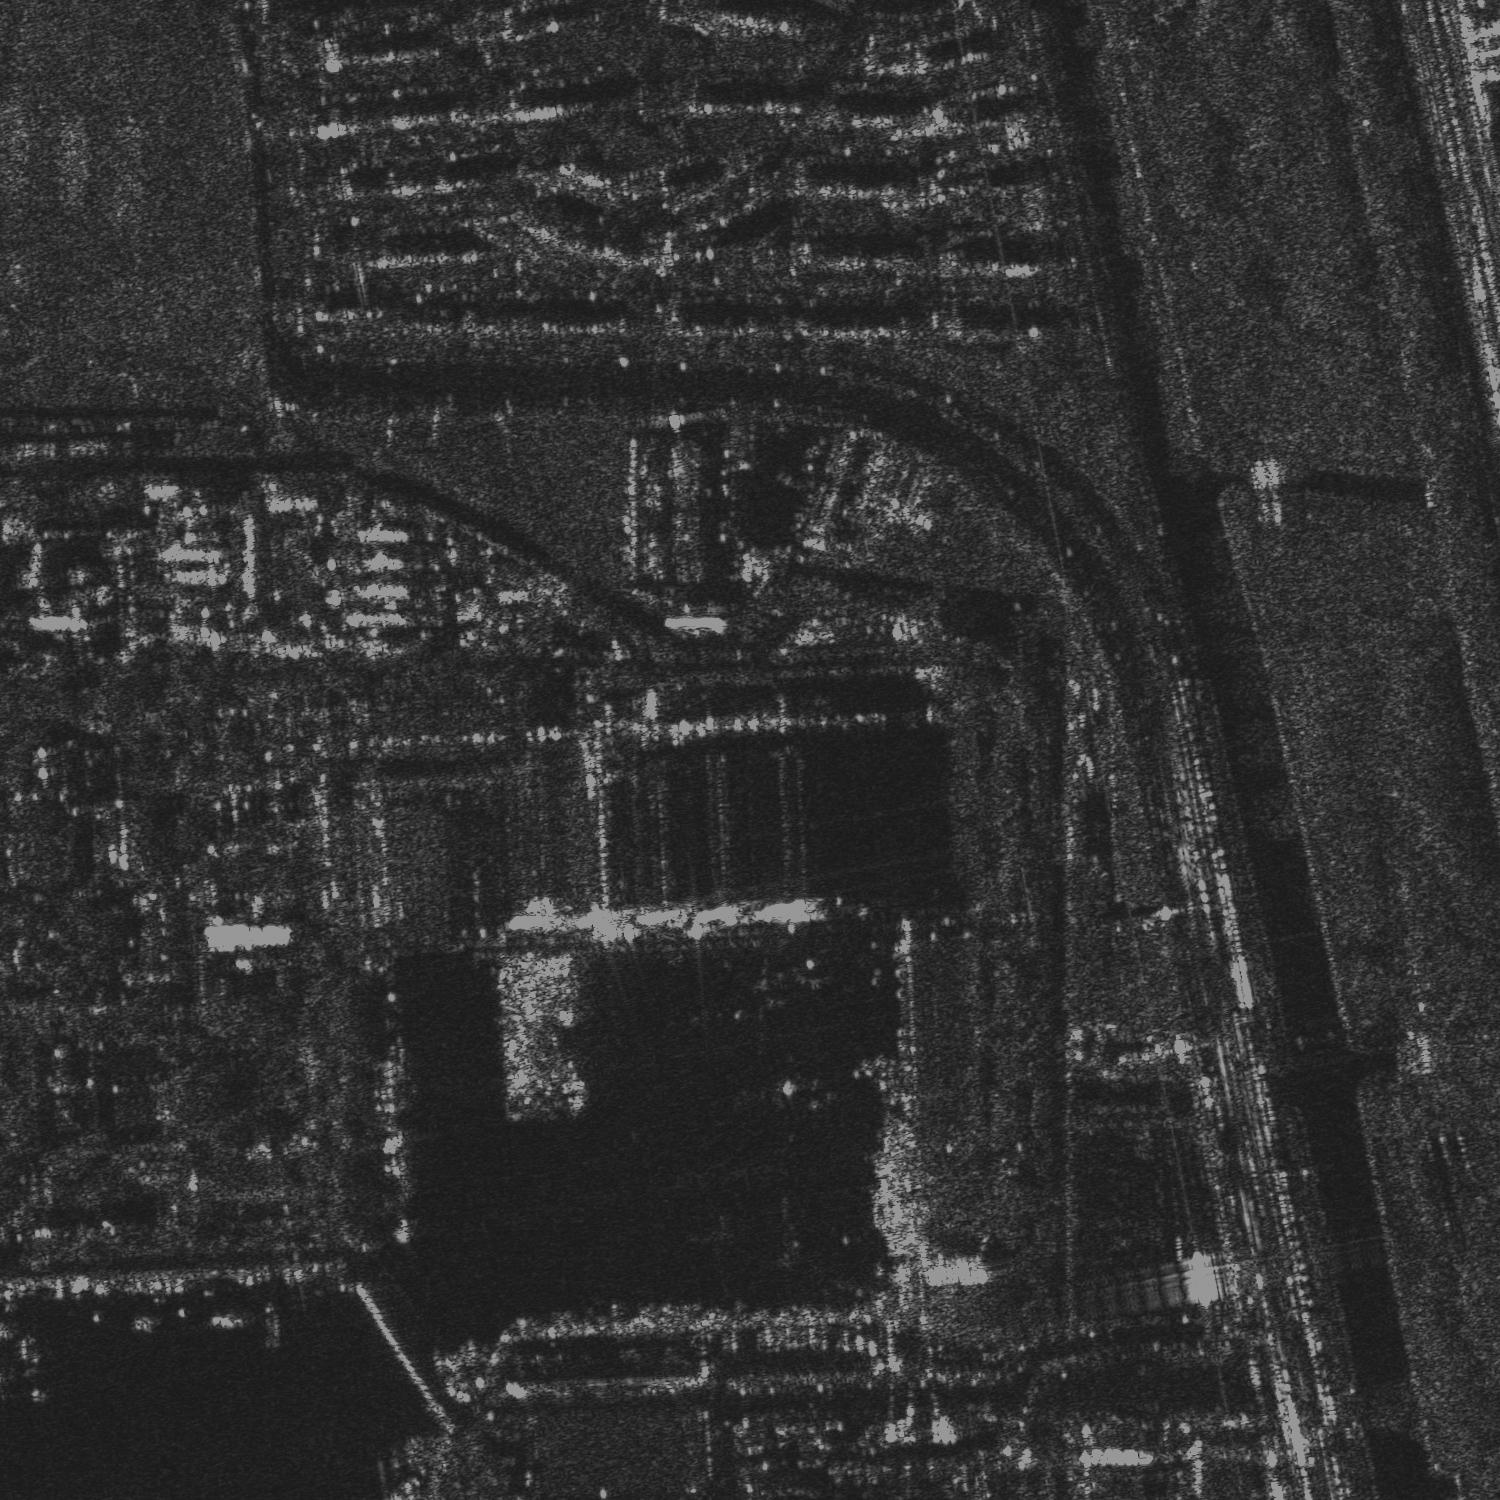ARJ21: (1, 1327, 73, 1404)
other: (742, 955, 832, 1016)
